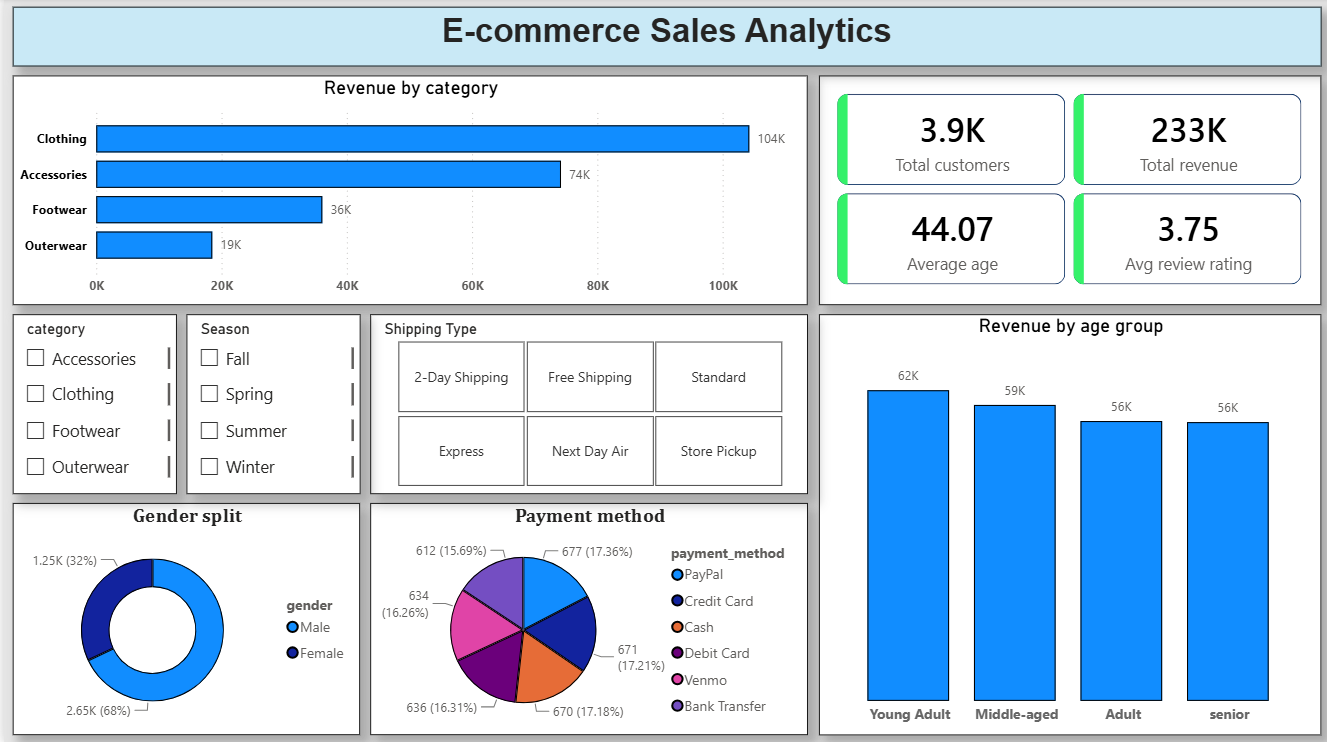

Layout of this report page (visuals, bound fields, positions):
{"tool":"powerbi","page":{"name":"Page 1","canvas":[1280,720],"ordinal":0},"visuals":[{"type":"cardVisual","fields":{"Data":["CountNonNull(customer customer_data.customer_id)","Sum(customer customer_data.purchase_amount)","Avg(customer customer_data.age)","Avg(customer customer_data.review_rating)"]},"box":[786.6,74.8,485,222],"z":0},{"type":"textbox","box":[8.4,8.4,1263.1,57.9],"z":1000},{"type":"clusteredBarChart","title":"Revenue by category","fields":{"Category":["customer customer_data.category"],"Y":["Sum(customer customer_data.purchase_amount)"]},"box":[8.4,74.8,767.3,222],"z":2000},{"type":"donutChart","title":"Gender split","fields":{"Category":["customer customer_data.gender"],"Y":["CountNonNull(customer customer_data.gender)"]},"box":[8.4,487.4,335.4,224.4],"z":3000},{"type":"pieChart","title":"Payment method ","fields":{"Y":["CountNonNull(customer customer_data.payment_method)"],"Category":["customer customer_data.payment_method"]},"box":[353.5,487.4,422.3,224.4],"z":4000},{"type":"slicer","fields":{"Values":["customer customer_data.category"]},"box":[8.4,305.2,158,173.7],"z":5000},{"type":"clusteredColumnChart","title":"Revenue by age group","fields":{"Category":["customer customer_data.age_group"],"Y":["Sum(customer customer_data.purchase_amount)"]},"box":[786.6,305.2,485,406.6],"z":6000},{"type":"slicer","fields":{"Values":["customer customer_data.shipping_type"]},"box":[353.5,305.2,422.3,173.7],"z":7000},{"type":"slicer","fields":{"Values":["customer customer_data.season"]},"box":[176.1,305.2,167.7,173.7],"z":7001}]}

Visuals, with their boxes in screenshot pixels (x1, y1, x2, y2), scaled from the page's 1280x720 canvas onto the 1327x742 screenshot:
cardVisual - CountNonNull(customer customer_data.customer_id) x Sum(customer customer_data.purchase_amount): Rect(815, 77, 1318, 306)
textbox: Rect(9, 9, 1318, 68)
"Revenue by category" clusteredBarChart: Rect(9, 77, 804, 306)
"Gender split" donutChart: Rect(9, 502, 356, 734)
"Payment method " pieChart: Rect(366, 502, 804, 734)
slicer - customer customer_data.category: Rect(9, 315, 173, 494)
"Revenue by age group" clusteredColumnChart: Rect(815, 315, 1318, 734)
slicer - customer customer_data.shipping_type: Rect(366, 315, 804, 494)
slicer - customer customer_data.season: Rect(183, 315, 356, 494)
